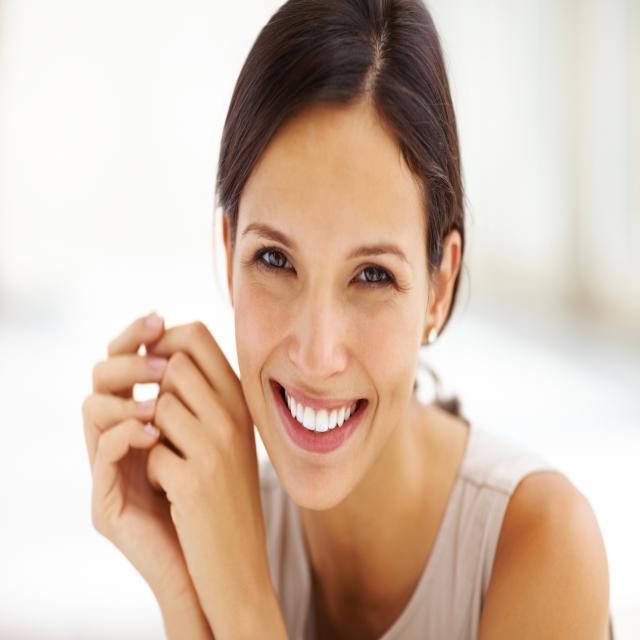human: (79, 4, 617, 640)
